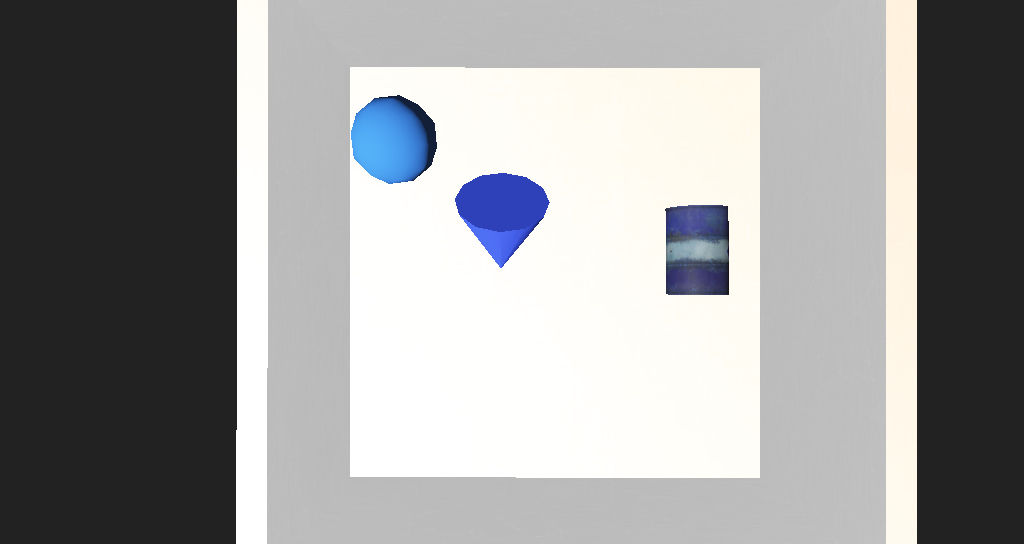cone: (579, 234, 633, 282)
cylinder: (428, 215, 502, 282)
sphere: (360, 177, 421, 224)
